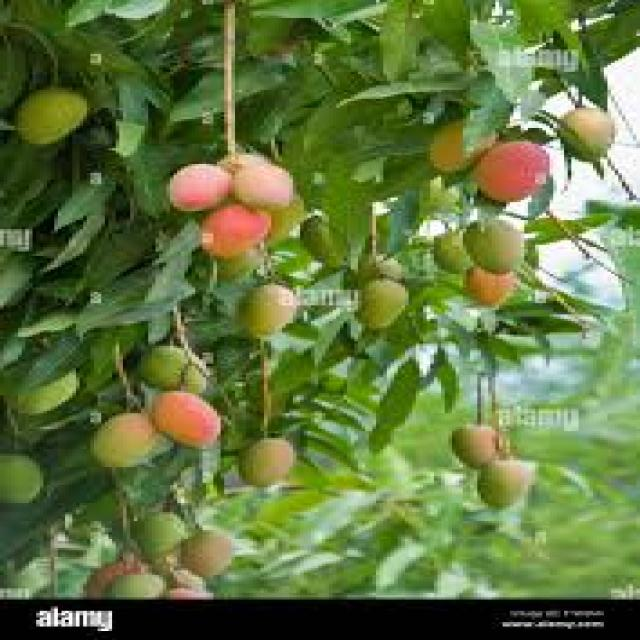mango: (170, 155, 289, 216)
